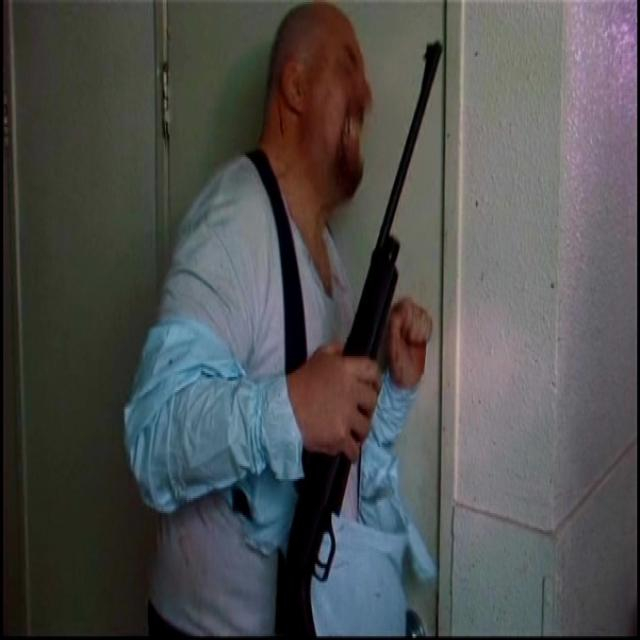rifle: (269, 33, 451, 640)
